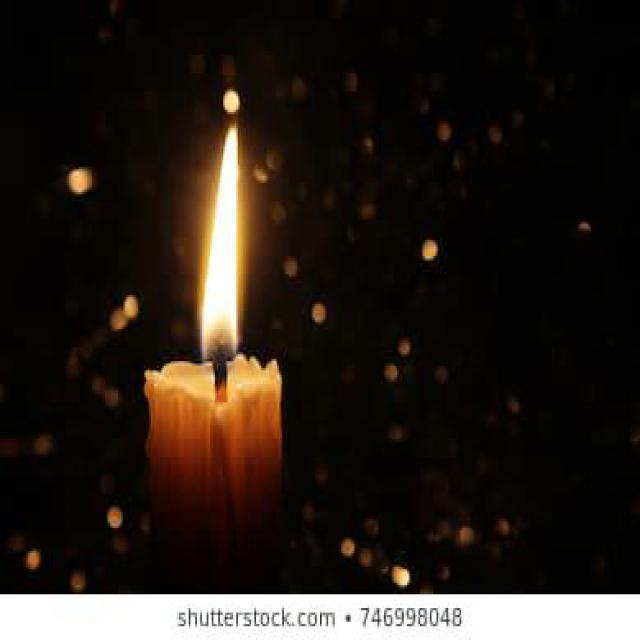Fire: (202, 126, 240, 366)
